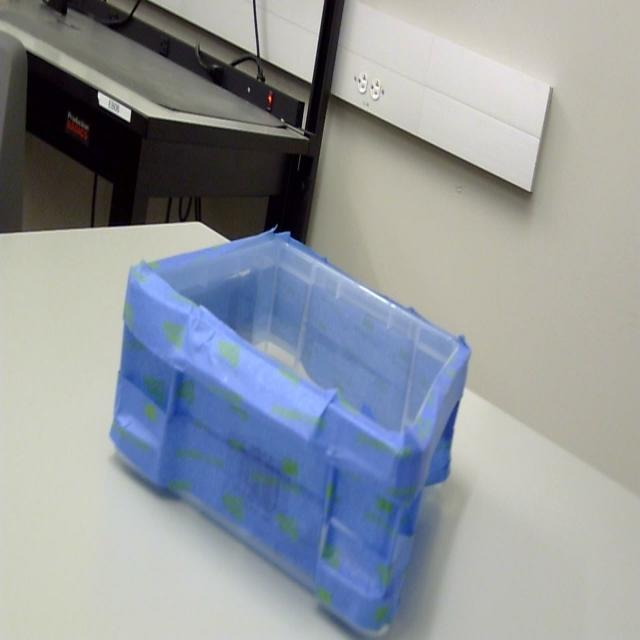bucket: (108, 232, 472, 640)
